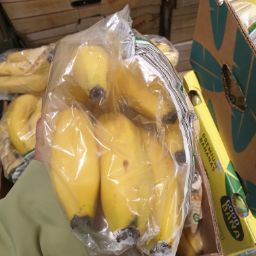Bannana: (23, 44, 194, 256), (33, 28, 202, 208), (7, 42, 110, 245)
